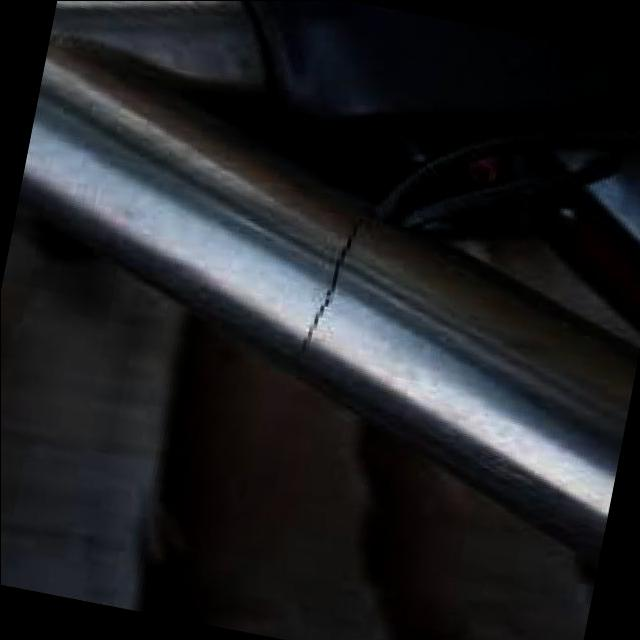defect: (291, 212, 370, 359)
